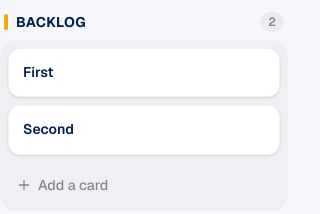
Scenario: Column › reverts on Escape without renaming
The width and height of the screenshot is (320, 214).
Click the button "Backlog": (134, 22) top-left (16, 12), bottom-right (252, 32)
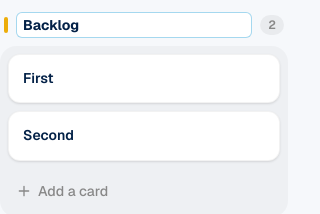
Replace the text in the field named "Rename column Backlog" with "Throwaway": (134, 25) top-left (16, 12), bottom-right (252, 38)
Then press Escape
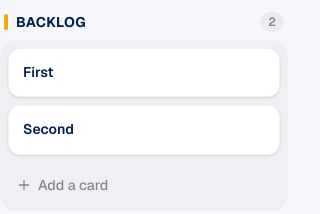
Check: the button "Backlog" is shown, box top-left (16, 12), bottom-right (252, 32)
